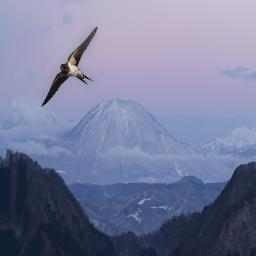Swallow: (41, 26, 98, 108)
